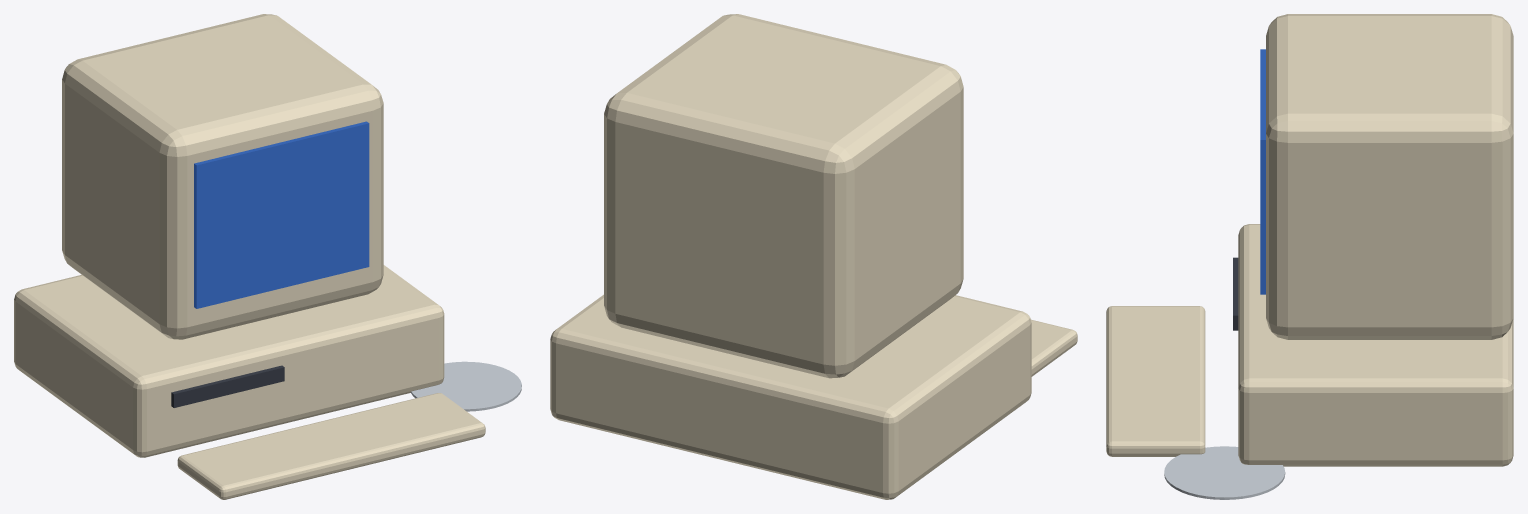
The model's file is compu_retro.glb.
3 renders of one model, left to right at view 1: azimuth 30°, elevation 25°; view 2: azimuth 150°, elevation 25°; view 3: azimuth 270°, elevation 25°, orthographic. The views are drawn at different scales.
Parts seen in each view (by area): view 1: Cube.002, Cube, pantalla, Cube.003, Cylinder, Cube.001; view 2: Cube.002, Cube, Cube.003; view 3: Cube.002, Cube, Cube.003, Cylinder, pantalla.
Boxes of the visible parts, <box> form: Cube.002: <box>62,14,383,339</box>; Cube: <box>14,265,444,457</box>; pantalla: <box>194,121,369,308</box>; Cube.003: <box>177,393,485,499</box>; Cylinder: <box>410,361,521,411</box>; Cube.001: <box>171,365,284,407</box>; Cube.002: <box>604,14,963,378</box>; Cube: <box>550,294,1031,499</box>; Cube.003: <box>1031,319,1077,376</box>; Cube.002: <box>1266,14,1513,339</box>; Cube: <box>1238,224,1513,466</box>; Cube.003: <box>1106,306,1205,456</box>; Cylinder: <box>1164,446,1285,499</box>; pantalla: <box>1260,49,1265,294</box>.
Size of the model in its own units: 1.67 by 1.3 by 1.48.
